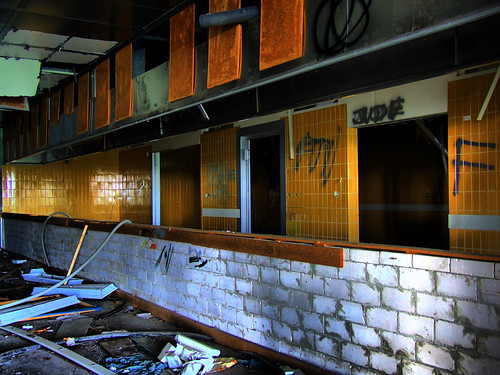graffiti: (445, 129, 495, 201), (289, 132, 343, 181), (193, 160, 245, 206)
trash: (8, 217, 177, 375)
